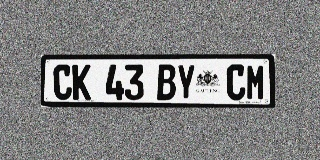3: (125, 64, 143, 100)
4: (106, 64, 124, 100)
B: (157, 64, 176, 100)
C: (226, 64, 246, 100), (53, 65, 72, 100)
K: (72, 65, 91, 100)
M: (246, 64, 265, 100)
Y: (176, 64, 195, 100)
